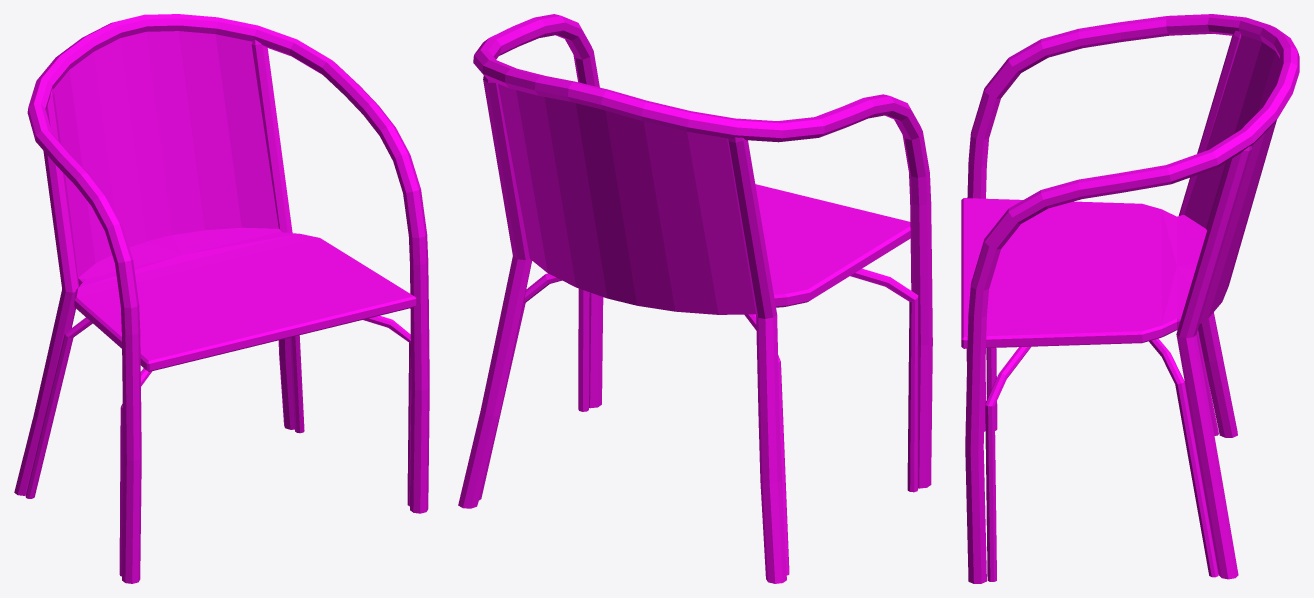
File: chair 1 var 2.fbx
3 views of the same model, side by side, from view 1: azimuth 30°, elevation 25°; view 2: azimuth 150°, elevation 25°; view 3: azimuth 270°, elevation 25° (orthographic). The views are drawn at different scales.
Visible parts, largest first — view 1: chair_1_var_2; view 2: chair_1_var_2; view 3: chair_1_var_2.
Boxes of the visible parts, bbox=[...] form: chair_1_var_2: bbox=[14, 14, 429, 583]; chair_1_var_2: bbox=[458, 14, 932, 583]; chair_1_var_2: bbox=[961, 14, 1299, 583].
Size of the model in its own units: 274 by 363 by 247.
